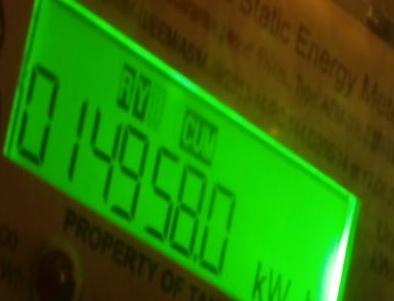.: (254, 258, 325, 301)
0: (190, 252, 200, 264)
1: (15, 63, 61, 166), (198, 184, 239, 275)
2: (69, 95, 88, 187)
5: (89, 108, 123, 204)
6: (144, 146, 179, 241)
9: (168, 163, 209, 254)
:: (113, 123, 154, 218)
